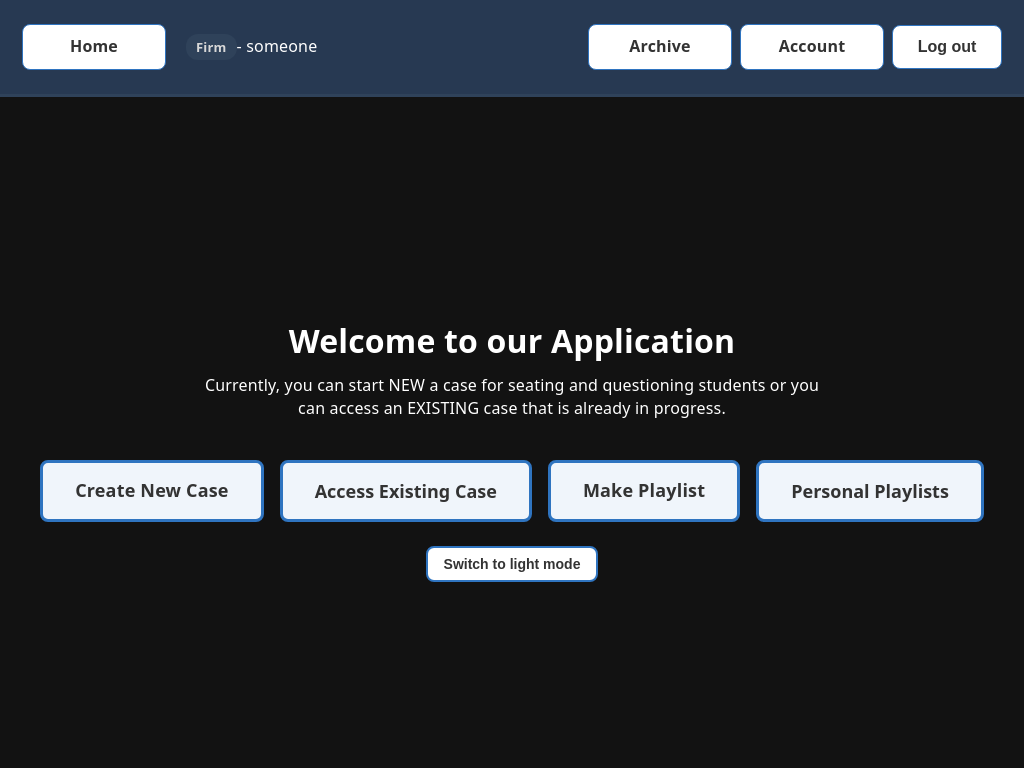
it: DashboardScreen playlist edit and delete (spec 022) › returns to the refreshed list with a notice on a 404
Click the button "Personal Playlists" at (870, 491), box [756, 460, 984, 522]
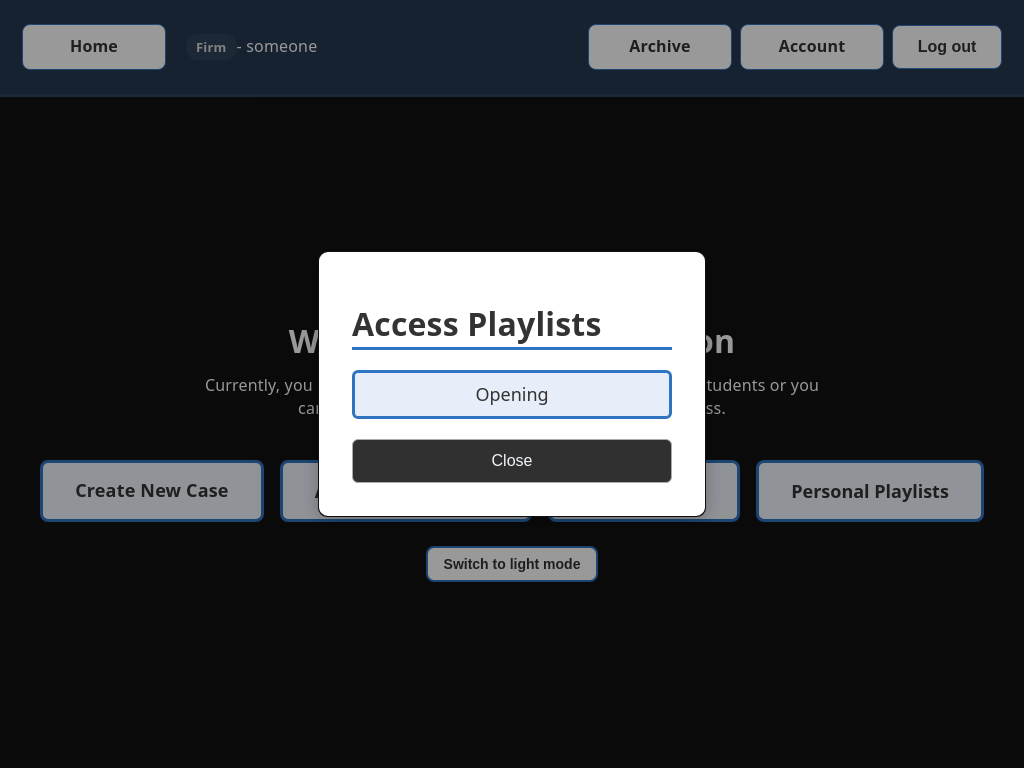
Click the button "Opening" at (512, 394), box [352, 370, 672, 419]
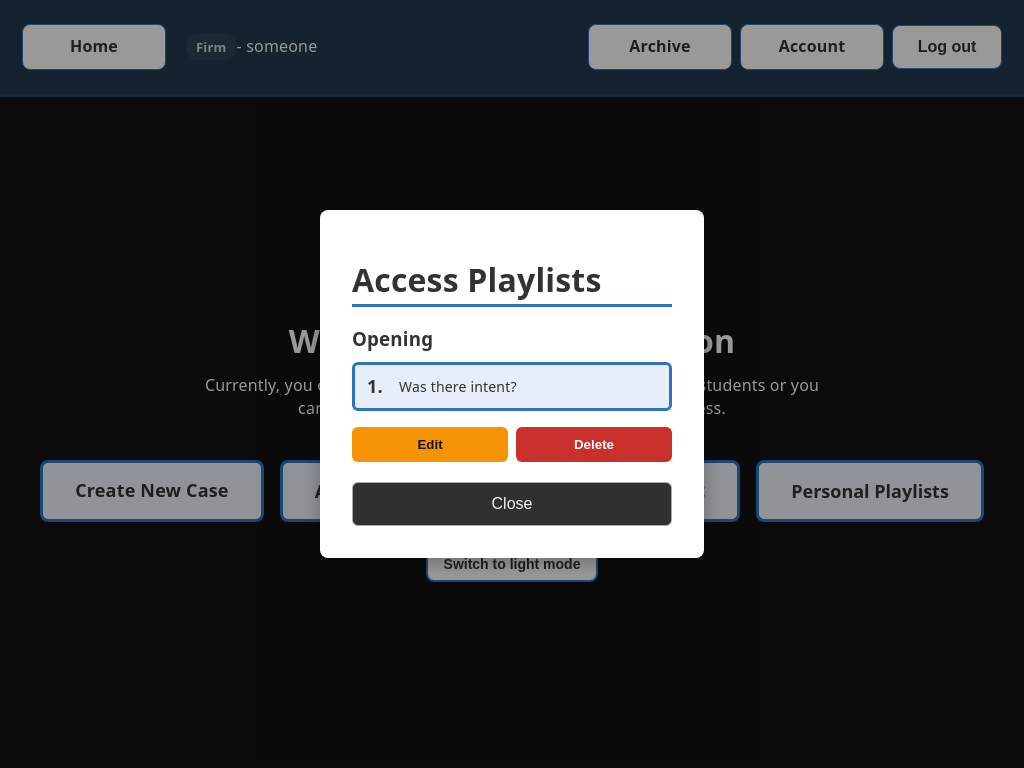
Result: the text "Was there intent?" is shown at [399, 377, 517, 396]
Click the button "Delete" at (594, 445), box [516, 427, 672, 462]
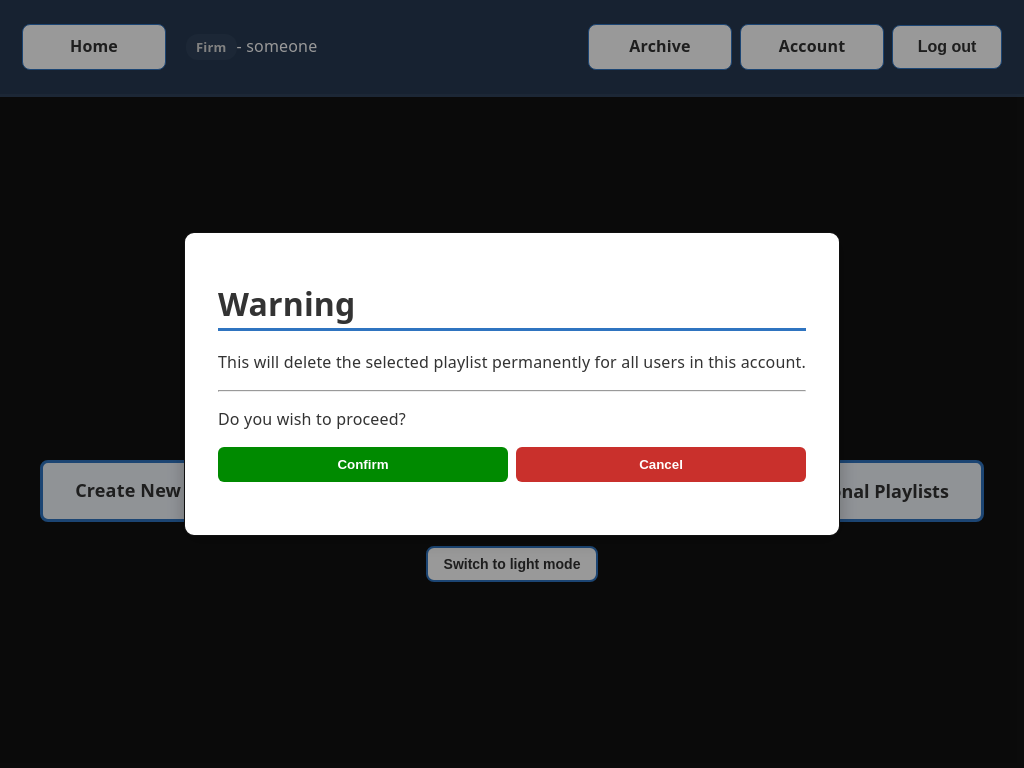
Click the button "Confirm" at (363, 465), box [218, 447, 508, 482]
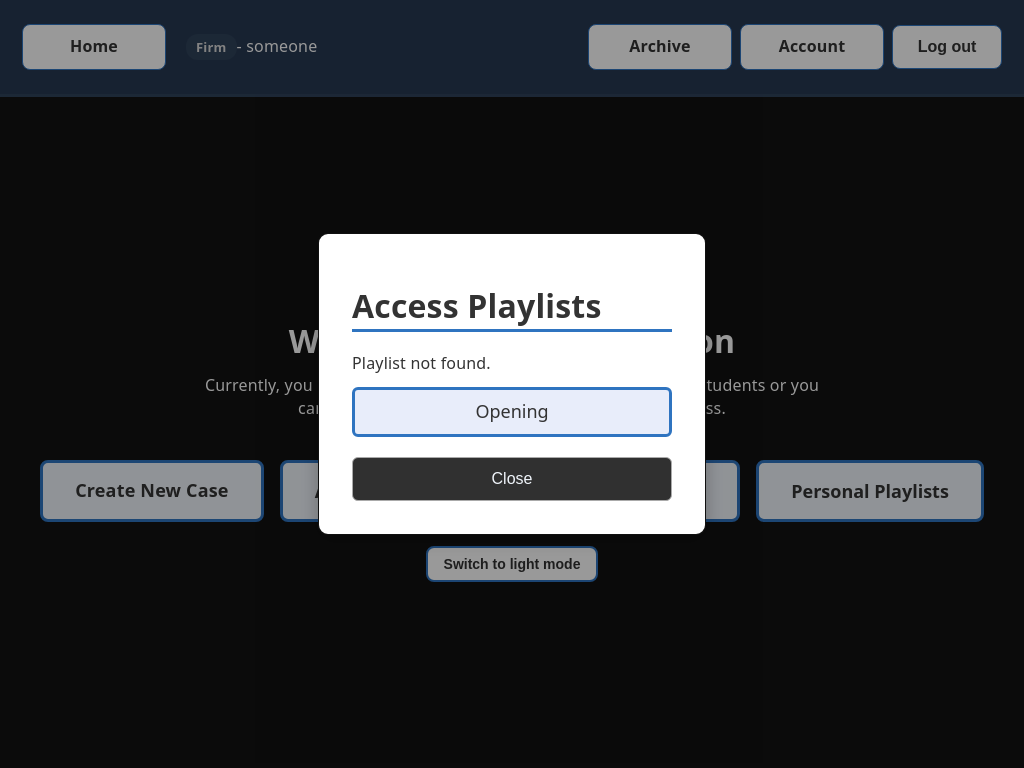
Result: the message reads "Playlist not found." at [352, 352, 491, 374]
